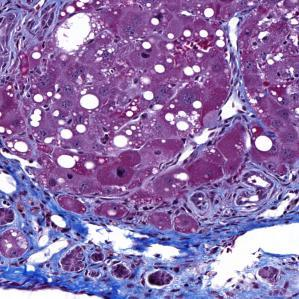fibrosis: (36, 213, 214, 296), (9, 171, 122, 251), (214, 168, 299, 228)
